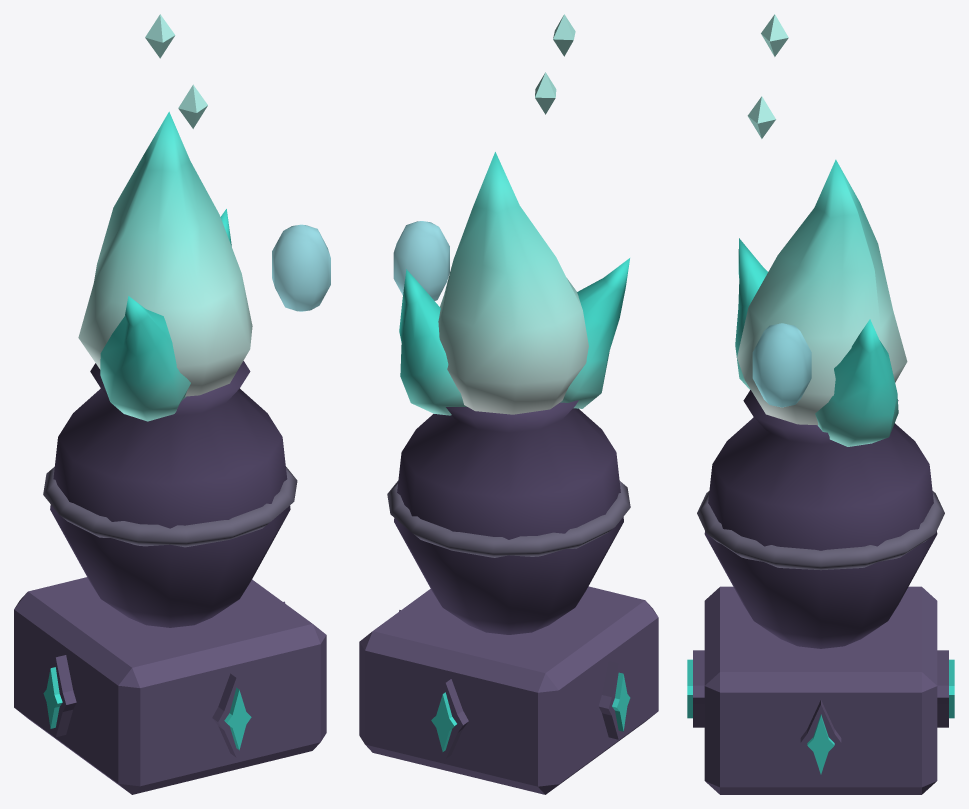
Rendered from decor_6.fbx.
3 renders of one model, left to right at view 1: azimuth 30°, elevation 25°; view 2: azimuth 150°, elevation 25°; view 3: azimuth 270°, elevation 25°, orthographic. The views are drawn at different scales.
Parts seen in each view (by area): view 1: decor_6; view 2: decor_6; view 3: decor_6.
Part boxes in pixels (bbox=[...]): decor_6: bbox=[14, 14, 330, 794]; decor_6: bbox=[359, 14, 658, 794]; decor_6: bbox=[687, 14, 954, 794].
Size of the model in its own units: 0.7411 by 2.05 by 0.69.
